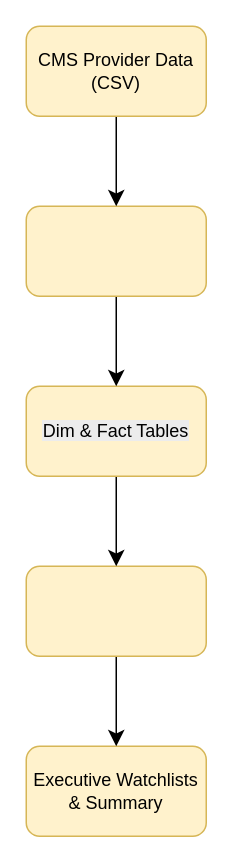
Some shapes in this 233 by 863 pixel diagram are drawn without their labels. The shapes that lost their labels are listed below. From the top down, each one's box as (x1, y1, x2, y2) in pixels, then its label:
(25, 205, 206, 296): Data Profiling & Cleaning (Python)
(25, 565, 206, 656): Efficiency Metrics (MSPB + Readmissions)
